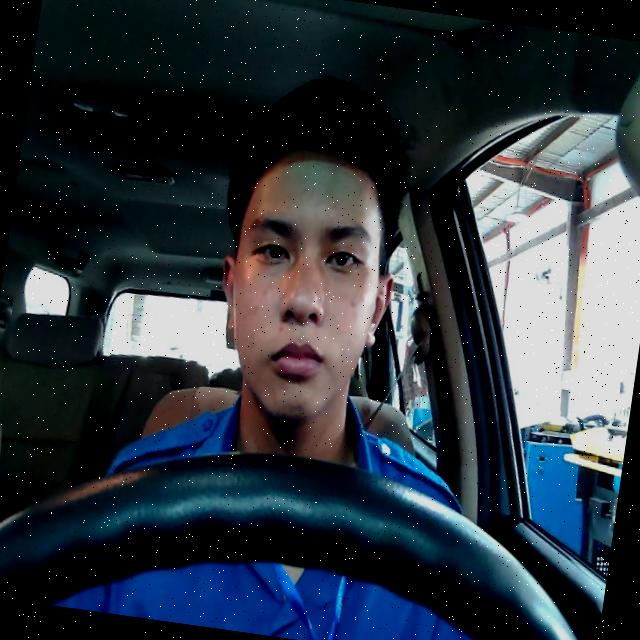focused: (203, 134, 409, 432)
